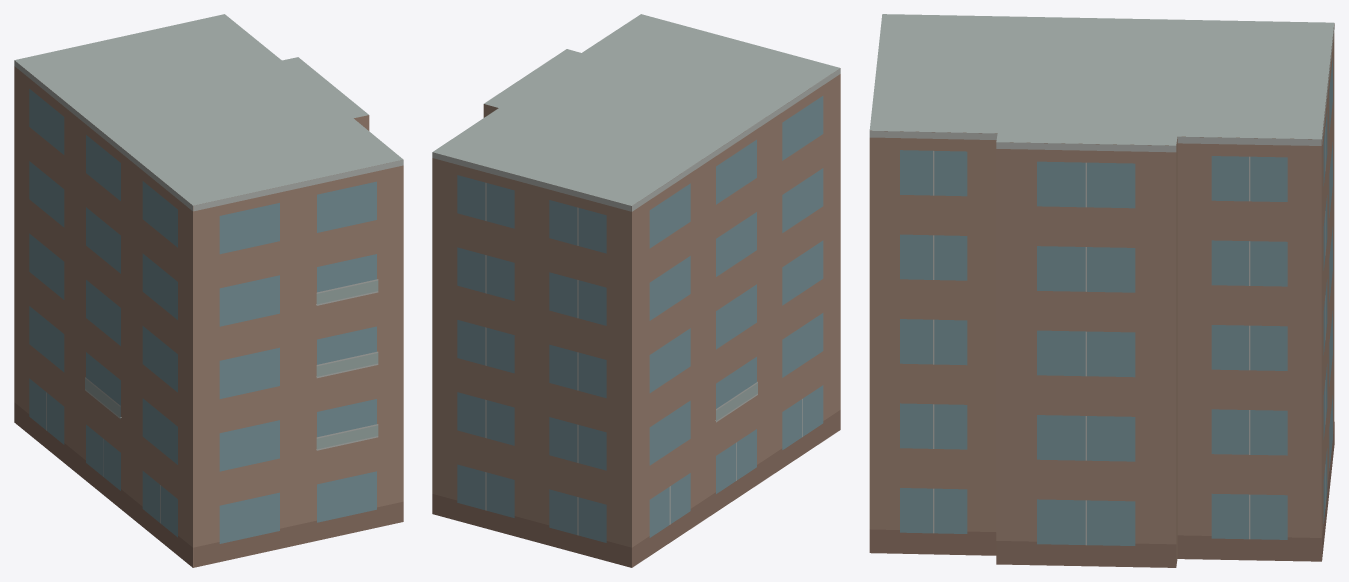
File: survey-upis-32652781.glb
The picture shows the model from 3 angles, left to right: view 1: azimuth 30°, elevation 25°; view 2: azimuth 150°, elevation 25°; view 3: azimuth 270°, elevation 25°; orthographic projection. The views are drawn at different scales.
Parts seen in each view (by area): view 1: survey-upis-32652781.tmp; view 2: survey-upis-32652781.tmp; view 3: survey-upis-32652781.tmp.
Part boxes in pixels (x1,y1,x2,y2): survey-upis-32652781.tmp: (14, 14, 403, 567); survey-upis-32652781.tmp: (432, 14, 840, 567); survey-upis-32652781.tmp: (869, 14, 1334, 567).
Bounding box in the file's own units: 10.2 × 15.25 × 15.22.
